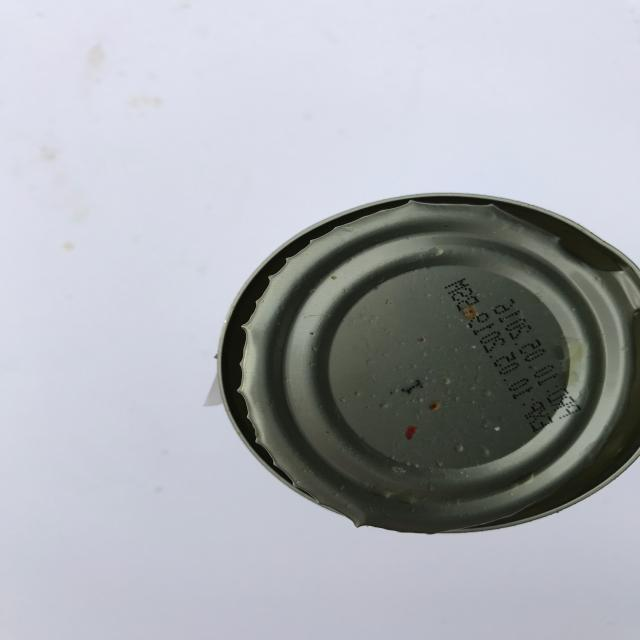metal: (212, 191, 640, 535)
